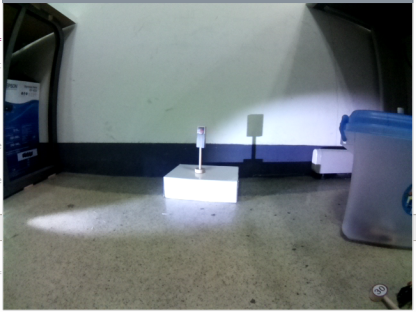Red: (195, 125, 207, 150)
